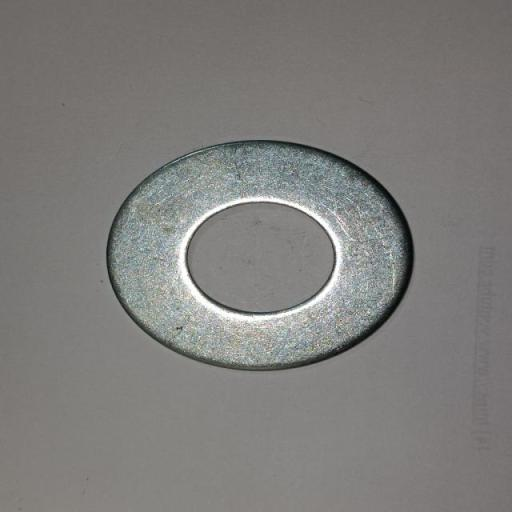Washer: (106, 139, 414, 372)
